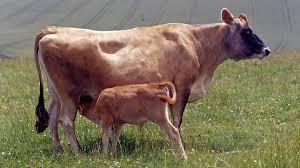cow: (34, 8, 270, 157), (77, 82, 188, 160)
